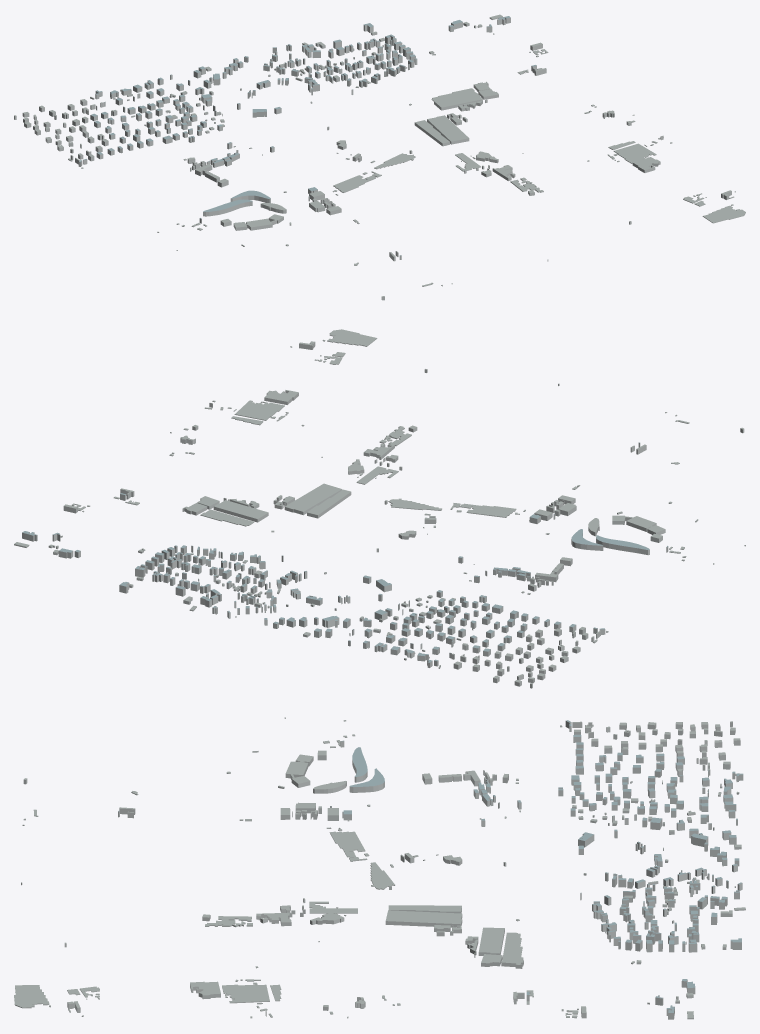
Rendered from far.glb.
3 renders of one model, top to bottom at view 1: azimuth 30°, elevation 25°; view 2: azimuth 150°, elevation 25°; view 3: azimuth 270°, elevation 25°, orthographic. The views are drawn at different scales.
Size of the model in its own units: 2063 by 27.4 by 2116.
